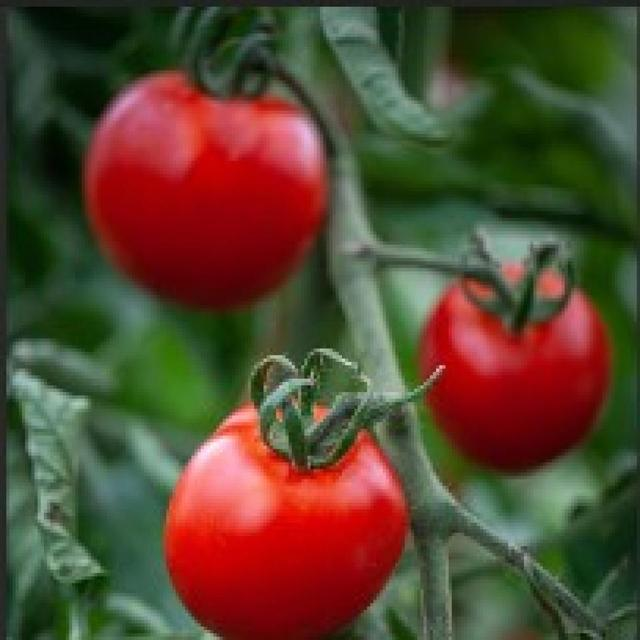Healthy Fruit: (120, 123, 343, 338)
